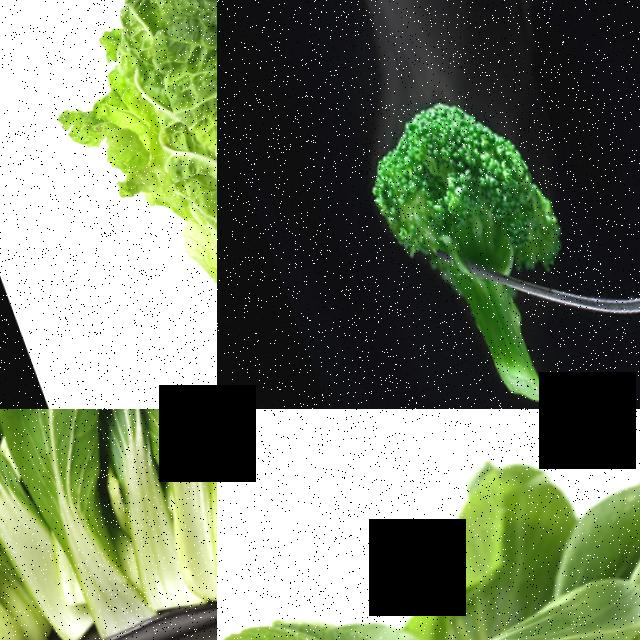bok choy: (217, 478, 529, 640), (0, 409, 158, 640), (494, 438, 640, 640), (67, 409, 217, 600)
broccoli: (317, 69, 581, 279)
cabbage: (22, 0, 217, 409)
